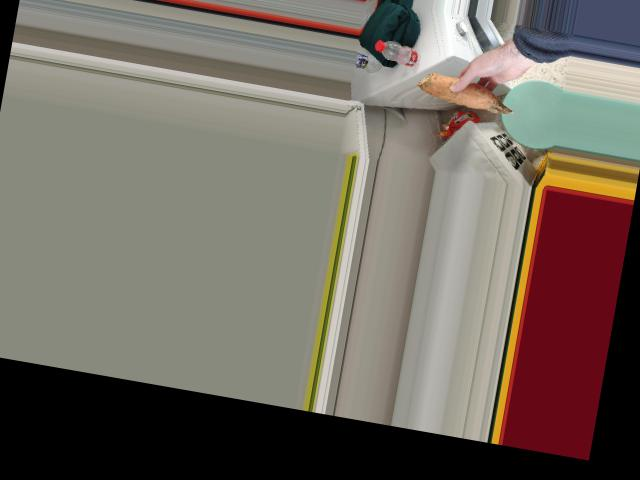sweet_potato: (411, 74, 522, 118)
